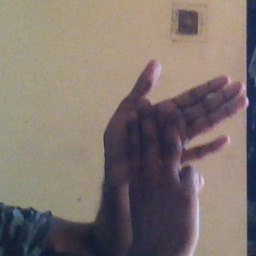M: (99, 54, 248, 214)
